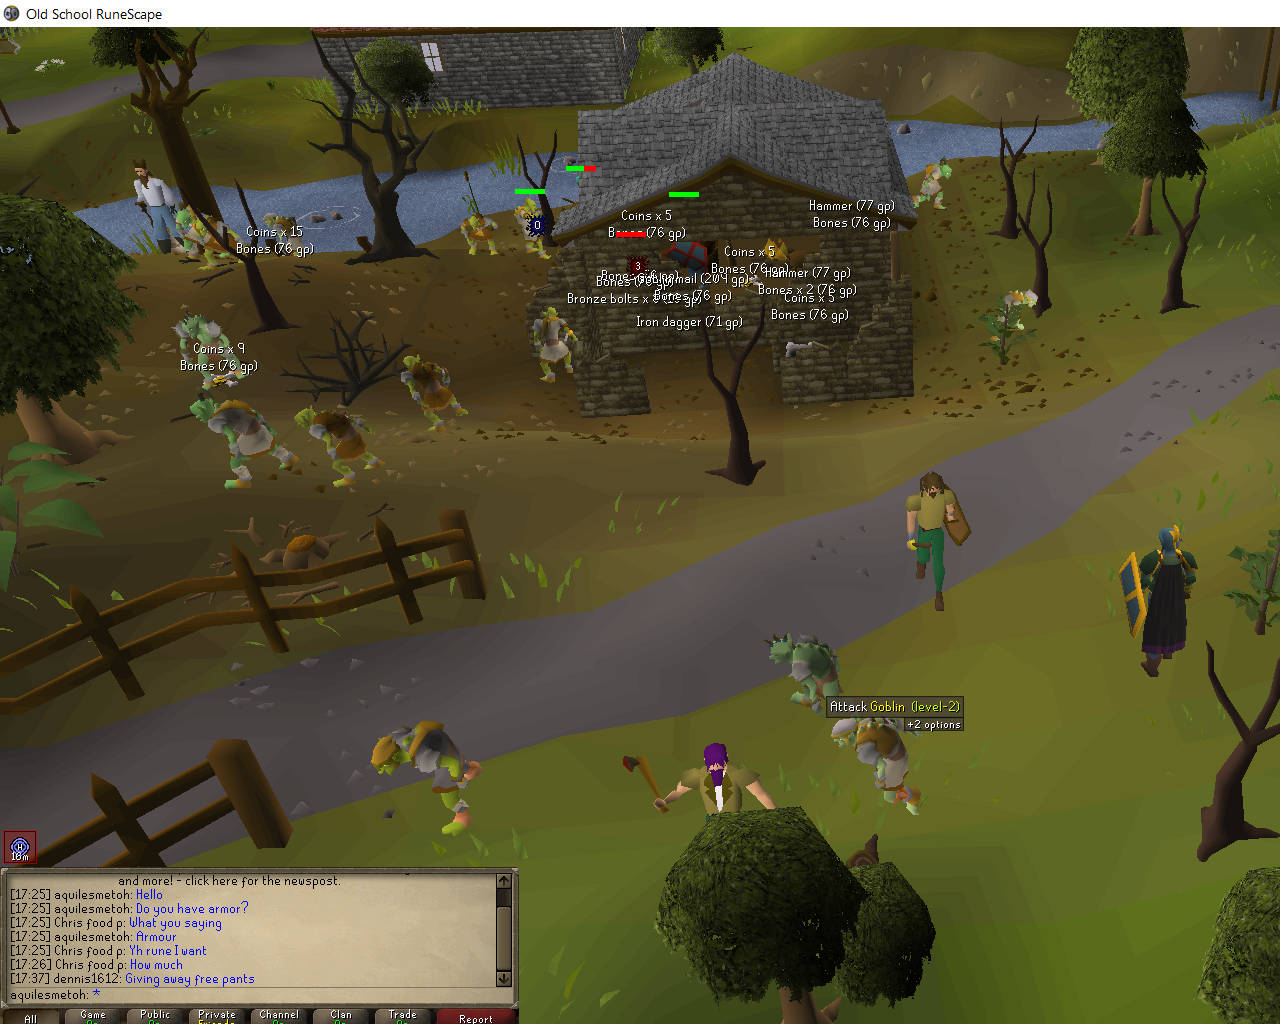Goblin: (366, 716, 485, 839), (827, 711, 936, 818), (185, 395, 302, 491), (292, 404, 385, 489), (762, 630, 854, 713), (168, 315, 261, 390), (400, 353, 471, 432), (526, 304, 579, 385), (172, 210, 236, 270), (259, 212, 318, 261), (511, 195, 553, 261), (991, 287, 1039, 340), (913, 156, 954, 212), (456, 213, 504, 258)
